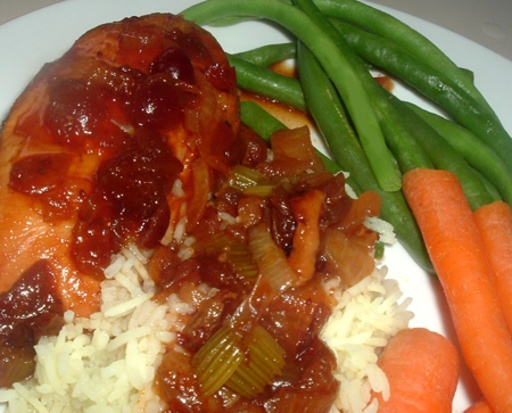background: (0, 0, 410, 267)
